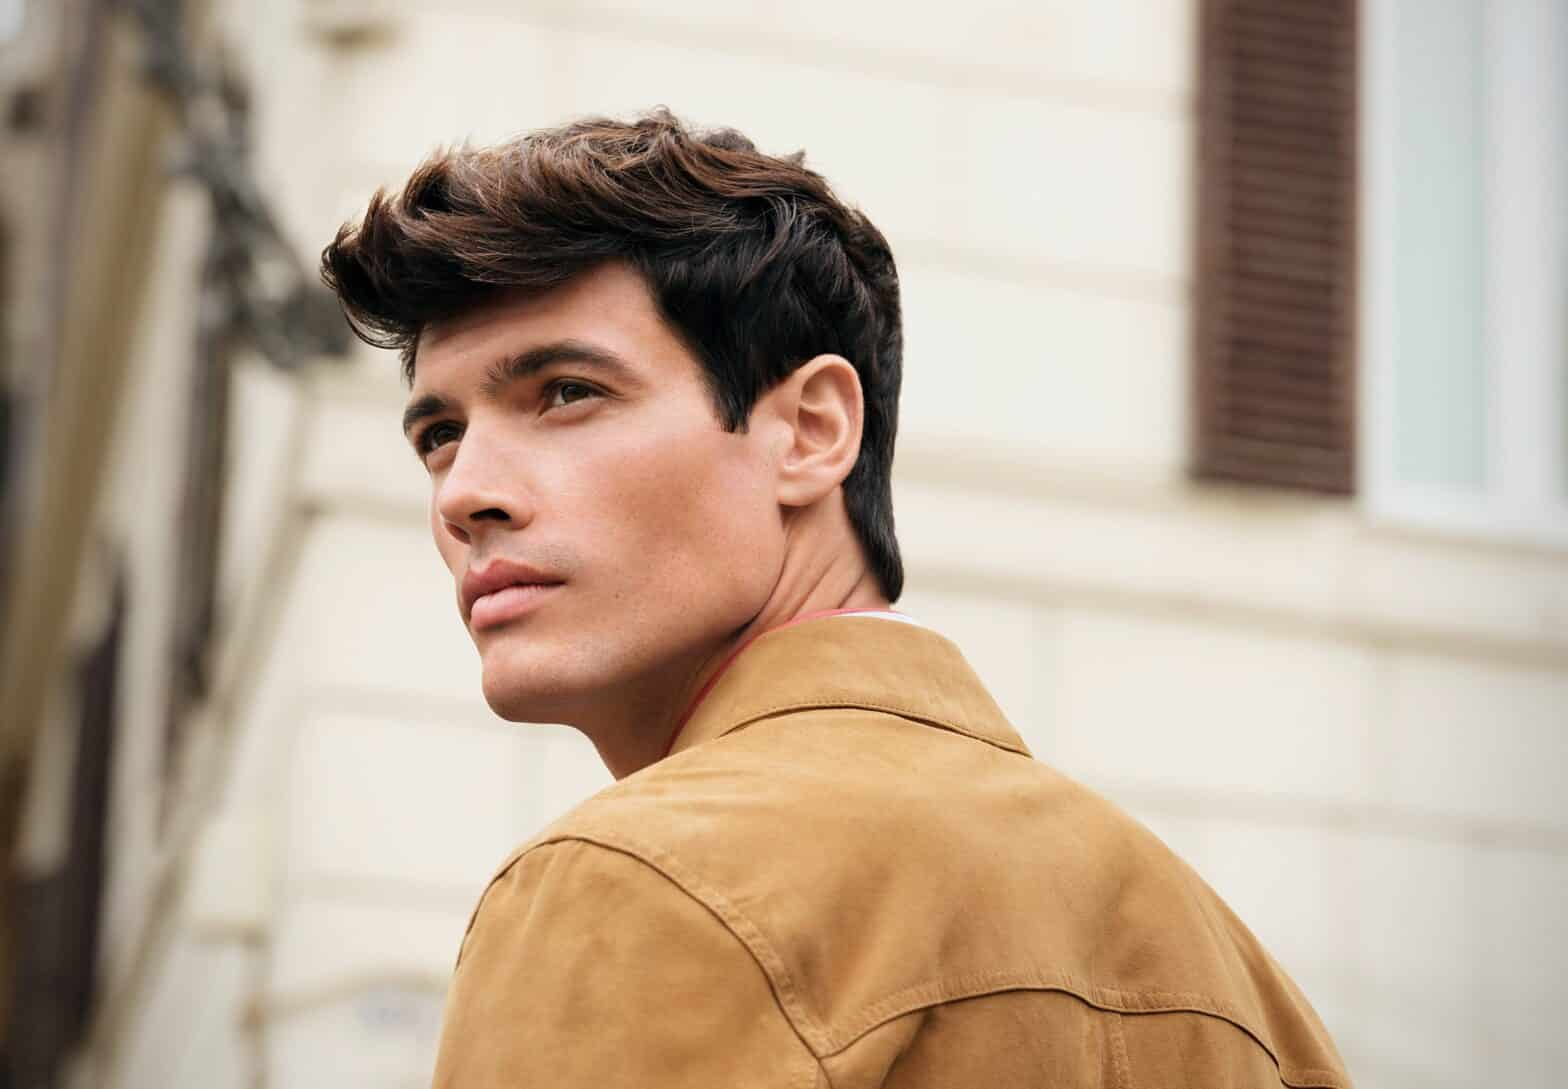sansCasque: (108, 42, 1172, 839)
